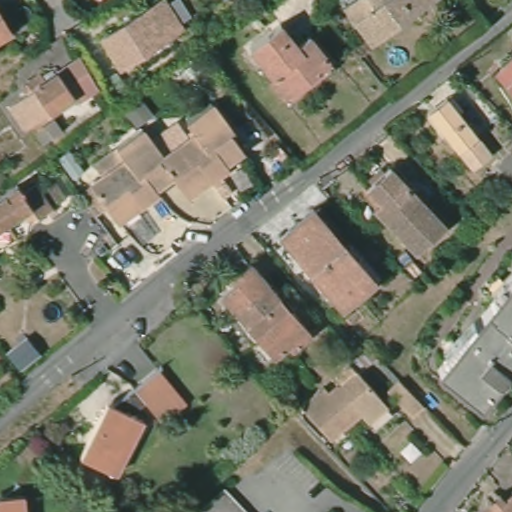pool: (386, 44, 413, 69)
